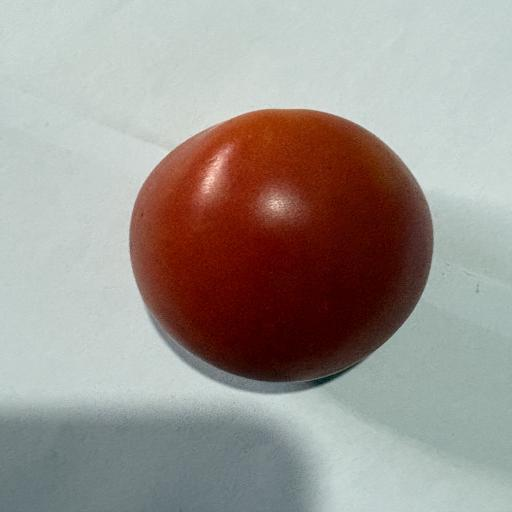ripe: (130, 109, 433, 381)
